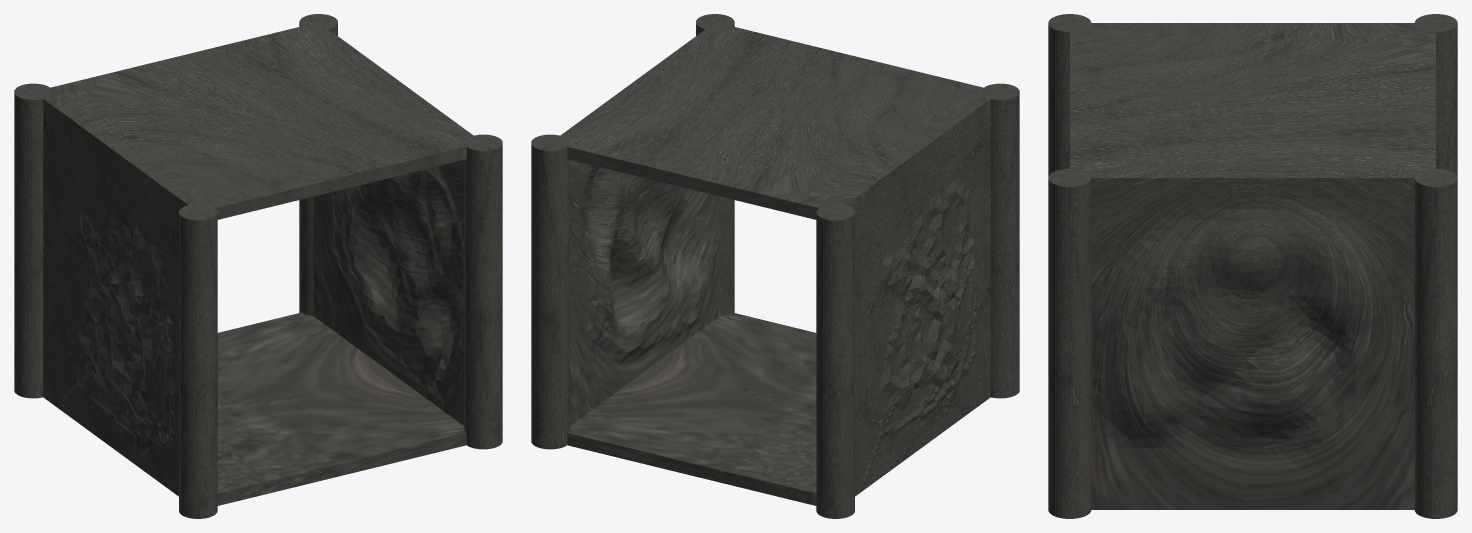
The model's file is room_Default.fbx.
3 renders of one model, left to right at view 1: azimuth 30°, elevation 25°; view 2: azimuth 150°, elevation 25°; view 3: azimuth 270°, elevation 25°, orthographic. The views are drawn at different scales.
Visible parts, largest first — view 1: obelisk; view 2: obelisk; view 3: obelisk.
Part boxes in pixels (bbox=[...]): obelisk: bbox=[14, 14, 502, 518]; obelisk: bbox=[531, 14, 1019, 518]; obelisk: bbox=[1048, 14, 1457, 518].
Size of the model in its own units: 1900 by 1700 by 1900.
